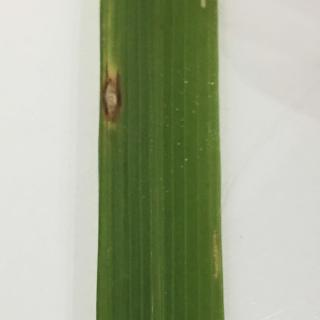Blast: (98, 46, 129, 138)
